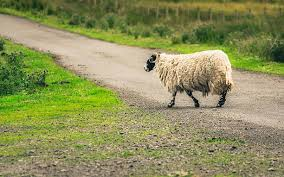sheep: (146, 52, 232, 105)
